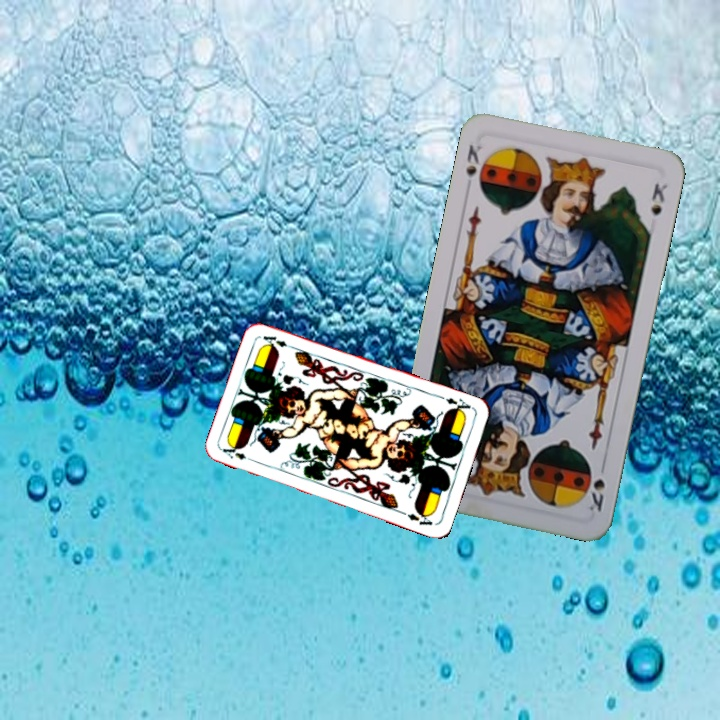EA: (218, 441, 258, 464), (442, 393, 476, 417)
SK: (584, 458, 608, 514), (461, 140, 485, 180)
